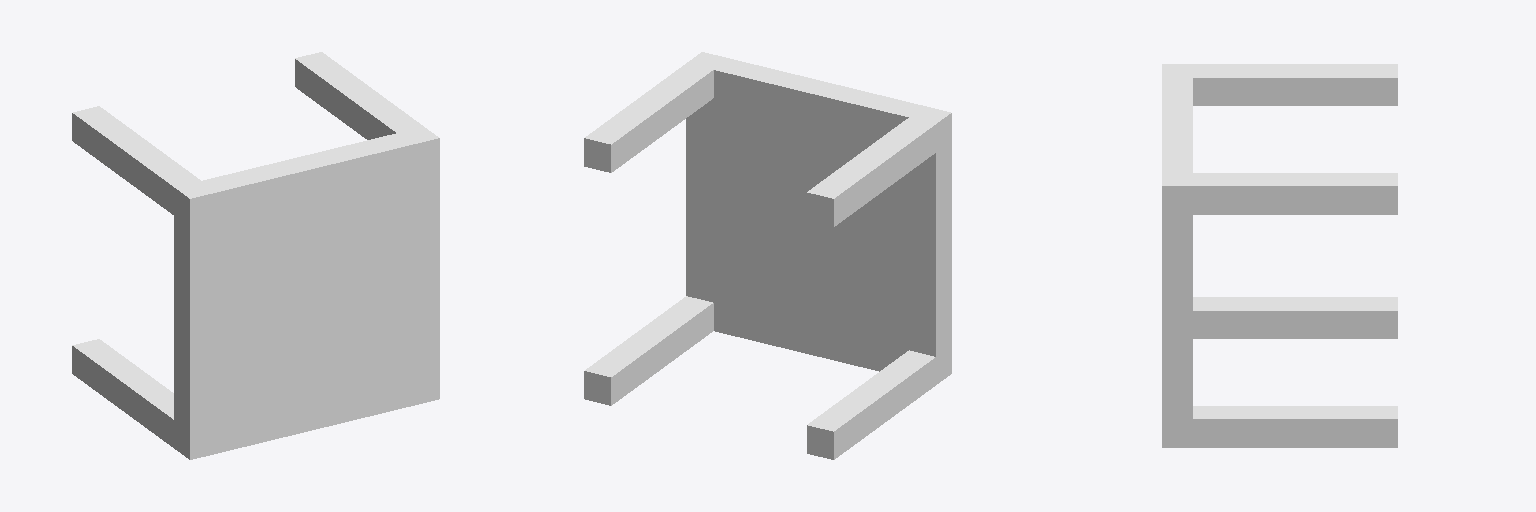
File: table.obj
3 renders of one model, left to right at view 1: azimuth 30°, elevation 25°; view 2: azimuth 150°, elevation 25°; view 3: azimuth 270°, elevation 25°, orthographic.
Size of the model in its own units: 55 by 55 by 45.